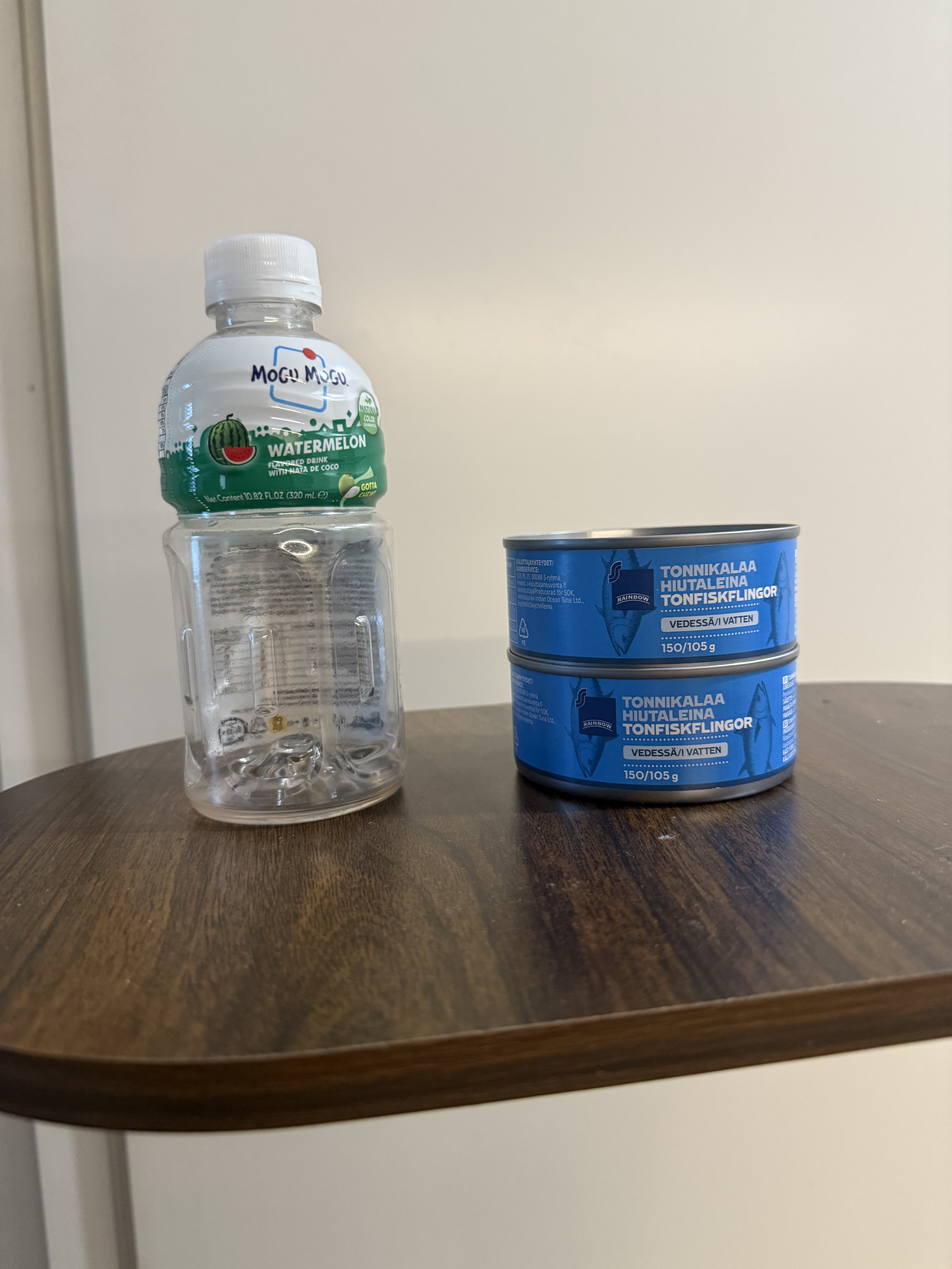Konservburk: (499, 528, 804, 664), (501, 672, 804, 797)
Pantburk: (146, 227, 405, 822)
